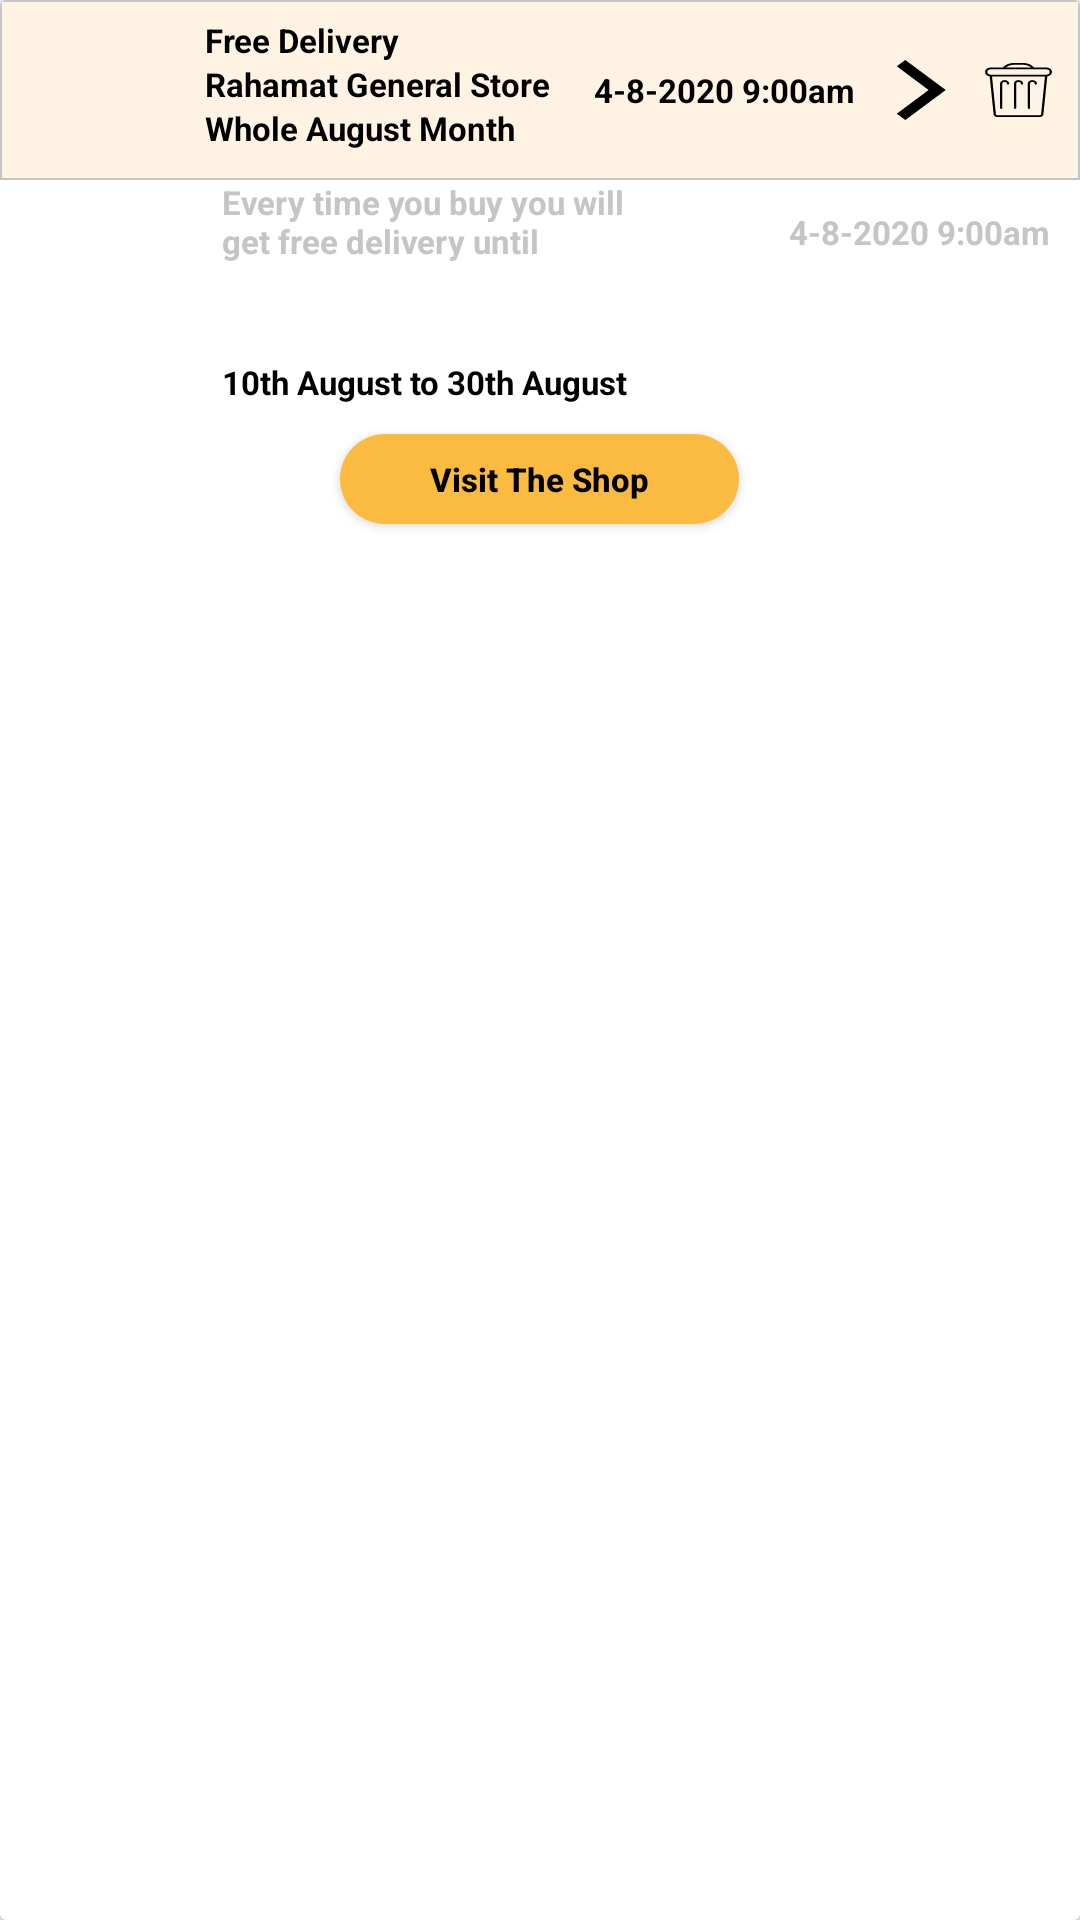

Screen size 1080 × 1920. Icon name, then its box in pixels as (left=x1, top=y1, right=x2, bottom=y2):
arrow forward: (left=897, top=60, right=946, bottom=120)
dustbin: (left=985, top=63, right=1052, bottom=117)
